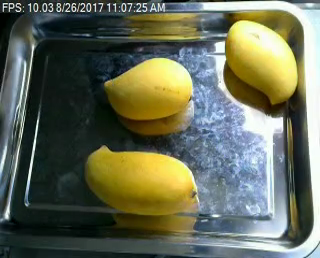Mango: (76, 143, 207, 217), (219, 15, 302, 107), (98, 51, 196, 125)
